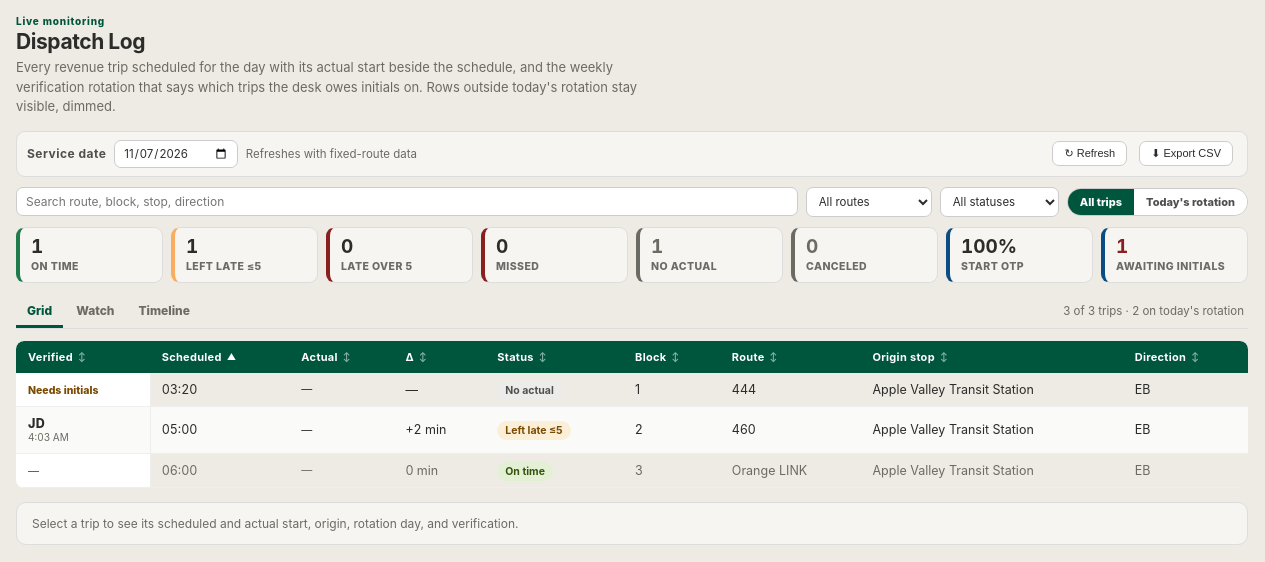
it: Dispatch Log shell › sorts the grid from its headers and keeps the order when the view changes
The width and height of the screenshot is (1265, 562).
Click the button "Route ↕". click: (755, 357)
box: [732,350,778,364]
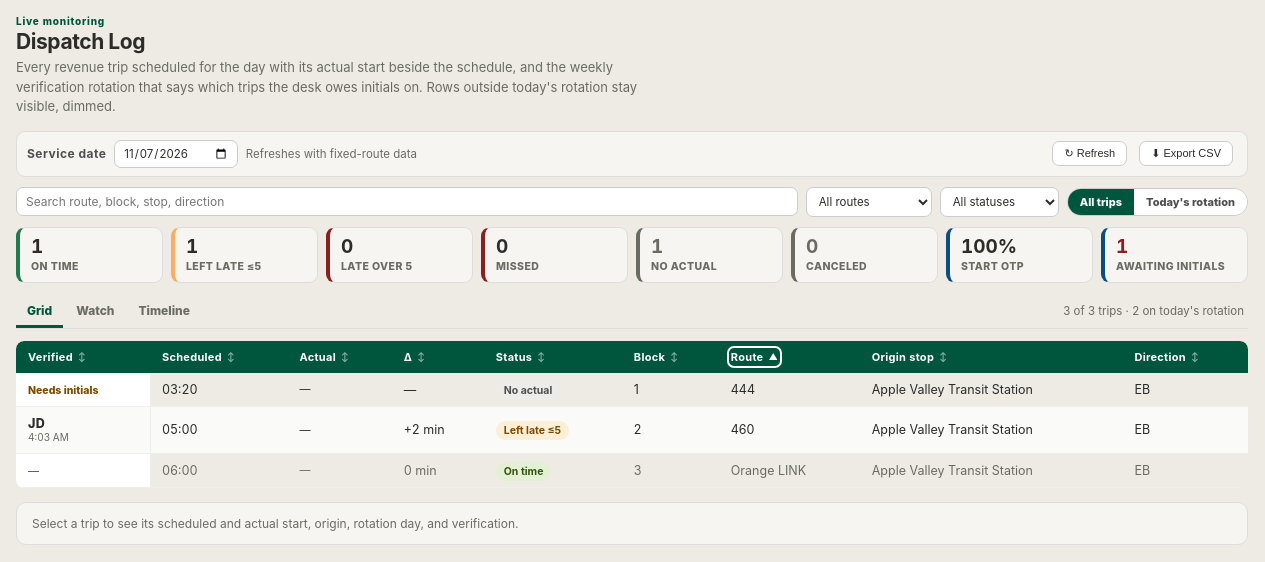
Click the button "Route ▲". click: (754, 357)
box: [731,350,778,364]
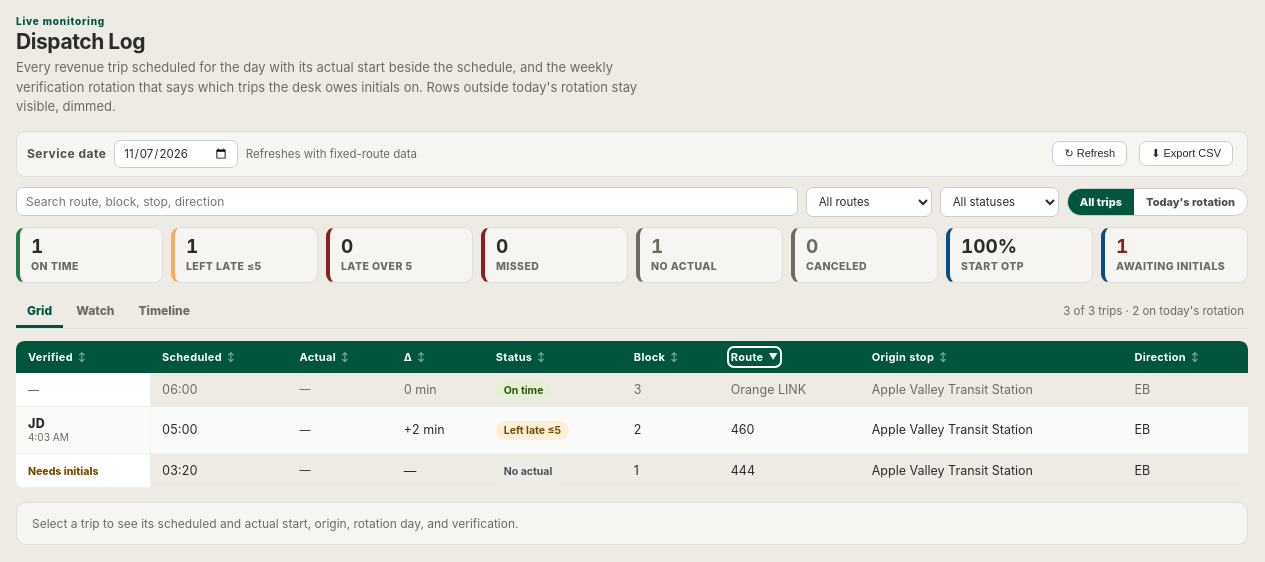
Expected: the row that starts with "0 min" shows "Orange LINK", [731,382,806,397]
// The order belongs to the shell: leaving and returning to the Grid keeps it.
Click the tab "Timeline". click: (164, 311)
box: [127,295,201,328]
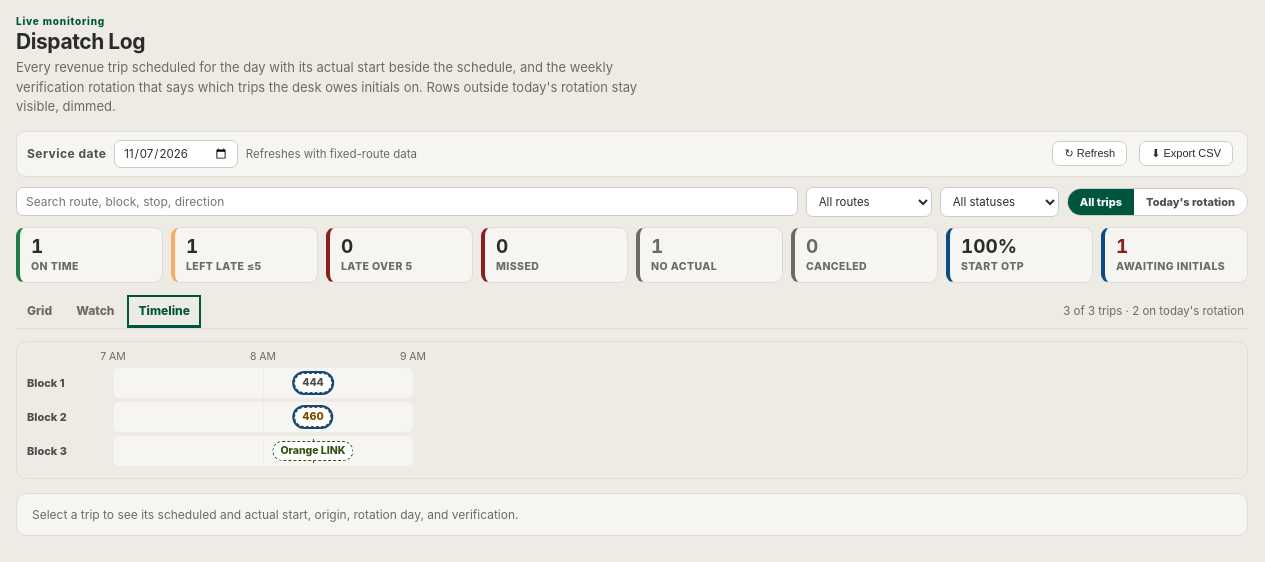
Result: the element named "Trip starts by block" is shown at [16,341,1248,479]
Click the tab "Grid". click: (40, 311)
box: [16,295,63,328]
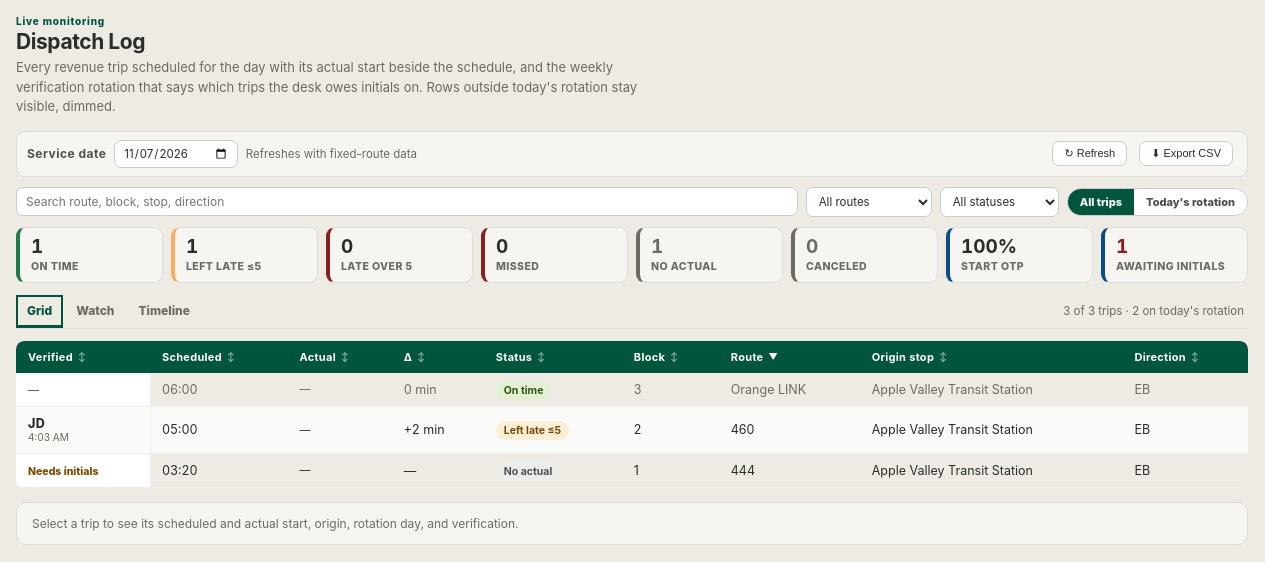
Result: the row that starts with "0 min" shows "Orange LINK" at [731,382,806,397]
